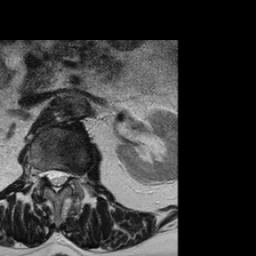CCS_normal: (53, 162, 60, 198)
LFS_severe_stenosis: (70, 163, 77, 187)
LLS_normal: (61, 163, 69, 189)
RFS_normal: (37, 162, 46, 186)
RLS_normal: (45, 162, 53, 186)
